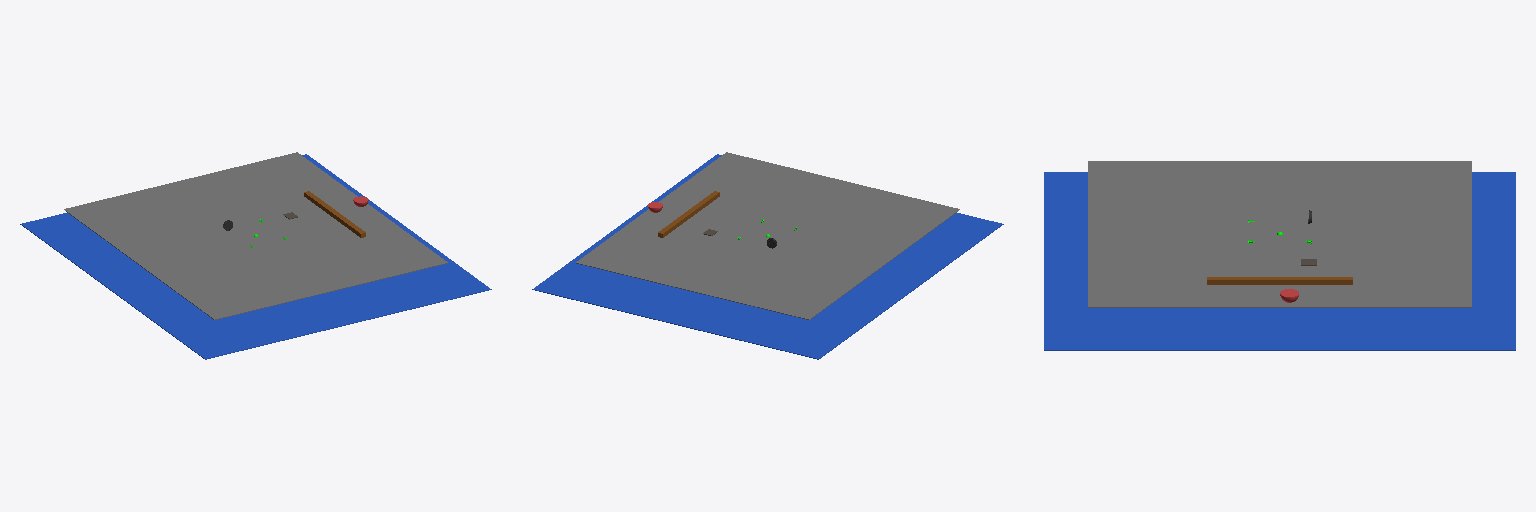
robot.urdf — sw9:
<?xml version="1.0" encoding="utf-8"?>
<!-- This URDF was automatically created by SolidWorks to URDF Exporter! Originally created by Stephen Brawner (brawner@gmail.com) 
     Commit Version: 1.6.0-4-g7f85cfe  Build Version: 1.6.7995.38578
     For more information, please see http://wiki.ros.org/sw_urdf_exporter -->
<robot name="sw9">

  <!-- =================================================================== -->
  <!-- ROOT LINK: ground_sphere (기준점 (0,0,0)) -->
  <!-- =================================================================== -->
  <link name="ground_sphere">
    <inertial>
      <origin xyz="0 0 0" rpy="0 0 0" />
      <mass value="0.1" />
      <inertia ixx="0.0001" ixy="0" ixz="0" iyy="0.0001" iyz="0" izz="0.0001" />
    </inertial>
    <visual>
      <origin xyz="0 0 0" rpy="0 0 0" />
      <geometry>
        <sphere radius="0.03" />
      </geometry>
      <material name="green_material">
        <color rgba="0.0 1.0 0.0 1.0" />
      </material>
    </visual>
    <collision>
      <origin xyz="0 0 0" rpy="0 0 0" />
      <geometry>
        <sphere radius="0.03" />
      </geometry>
    </collision>
  </link>

  <!-- =================================================================== -->
  <!-- LINK: ellipsoid_surface (ground_sphere 기준 위쪽으로 이동) -->
  <!-- =================================================================== -->
  <link name="ellipsoid_surface">
    <inertial>
      <origin xyz="0 0 0" rpy="0 0 0" />
      <mass value="30.0" />
      <inertia ixx="3.0" ixy="0" ixz="0" iyy="2.4" iyz="0" izz="5.0" />
    </inertial>
    <visual>
      <origin xyz="0 0 0" rpy="0 0 0" />
      <geometry>
        <box size="4.341 4.852 0.01" />
      </geometry>
      <material name="ellipsoid_mat">
        <color rgba="0.2 0.4 0.8 0.5" />
      </material>
    </visual>
    <collision>
      <origin xyz="0 0 0" rpy="0 0 0" />
      <geometry>
        <box size="4.341 4.852 0.01" />
      </geometry>
    </collision>
  </link>

  <joint name="sphere_to_ellipsoid_joint" type="fixed">
    <origin xyz="0 0 -0.30" rpy="0 0 0" />
    <parent link="ground_sphere" />
    <child link="ellipsoid_surface" />
  </joint>

  <!-- =================================================================== -->
  <!-- LINK: ground (바닥면, ground_sphere의 자식) -->
  <!-- =================================================================== -->
  <link name="ground">
    <inertial>
      <origin xyz="0 0 0" rpy="0 0 0" />
      <mass value="10.0" />
      <inertia ixx="0.818" ixy="0" ixz="0" iyy="0.654" iyz="0" izz="1.472" />
    </inertial>
    <visual>
      <origin xyz="0 0 0" rpy="0 0 0" />
      <geometry>
        <box size="3.544 3.964 0.01" />
      </geometry>
      <material name="ground_mat">
        <color rgba="0.5 0.5 0.5 0.8" />
      </material>
    </visual>
    <collision>
      <origin xyz="0 0 0" rpy="0 0 0" />
      <geometry>
        <box size="3.544 3.964 0.01" />
      </geometry>
    </collision>
  </link>

  <joint name="sphere_to_ground_joint" type="fixed">
    <origin xyz="0 0 0.0" rpy="0 0 0" />
    <parent link="ground_sphere" />
    <child link="ground" />
  </joint>

  <!-- =================================================================== -->
  <!-- ROBOT BASE LINK: ground의 자식으로 연결 -->
  <!-- =================================================================== -->
  <link name="car_frame">
    <inertial>
      <origin
        xyz="-0.0699924818342818 4.77680331115076E-09 0.266986488786554"
        rpy="0 0 0" />
      <mass
        value="4.36726752622486" />
      <inertia
        ixx="0.120130237589006"
        ixy="2.4797548909487E-06"
        ixz="-3.27227207151737E-05"
        iyy="0.191286662671253"
        iyz="2.68105952975221E-10"
        izz="0.301245720968891" />
    </inertial>
    <visual>
      <origin
        xyz="0 0 0"
        rpy="0 0 0" />
      <geometry>
        <mesh
          filename="../meshes/base_link.STL" />
      </geometry>
      <material
        name="">
        <color
          rgba="0.894117647058823 0.894117647058823 0.894117647058823 1" />
      </material>
    </visual>
    <collision>
      <origin
        xyz="0 0 0"
        rpy="0 0 0" />
      <geometry>
        <mesh
          filename="../meshes/base_link.STL" />
      </geometry>
    </collision>
  </link>

  <joint name="ground_to_car_frame_joint" type="fixed">
    <origin xyz="0 0 0.005" rpy="0 0 0" />
    <parent link="ground" />
    <child link="car_frame" />
  </joint>

  <!-- =================================================================== -->
  <!-- OBSTACLES (Attached to ground) -->
  <!-- =================================================================== -->
  <link name="obstacle_hemisphere">
    <inertial>
      <origin xyz="0 0 0" rpy="0 0 0" />
      <mass value="1.0" />
      <inertia ixx="0.001" ixy="0" ixz="0" iyy="0.001" iyz="0" izz="0.001" />
    </inertial>
    <visual>
      <origin xyz="0 0 0" rpy="0 0 0" />
      <geometry>
        <mesh filename="../meshes/hemisphere.STL" scale="0.1 0.1 0.1" />
      </geometry>
      <material name="hemisphere_mat">
        <color rgba="0.8 0.3 0.3 1.0" />
      </material>
    </visual>
    <collision>
      <origin xyz="0 0 0" rpy="0 0 0" />
      <geometry>
        <mesh filename="../meshes/hemisphere.STL" scale="0.1 0.1 0.1" />
      </geometry>
    </collision>
  </link>

  <joint name="ground_to_hemisphere_joint" type="fixed">
    <origin xyz="1.55 0.0 0.005" rpy="0 0 0" />
    <parent link="ground" />
    <child link="obstacle_hemisphere" />
  </joint>

  <link name="obstacle_wood_bar">
    <inertial>
      <origin xyz="0 0 0" rpy="0 0 0" />
      <mass value="2.0" />
      <inertia ixx="0.37" ixy="0" ixz="0" iyy="0.001" iyz="0" izz="0.37" />
    </inertial>
    <visual>
      <origin xyz="0 0 0" rpy="0 0 0" />
      <geometry>
        <box size="0.08 1.5 0.06" />
      </geometry>
      <material name="wood_mat">
        <color rgba="0.55 0.35 0.15 1.0" />
      </material>
    </visual>
    <collision>
      <origin xyz="0 0 0" rpy="0 0 0" />
      <geometry>
        <box size="0.08 1.5 0.06" />
      </geometry>
    </collision>
  </link>

  <joint name="ground_to_wood_bar_joint" type="fixed">
    <origin xyz="1.2 0.0 0.035" rpy="0 0 0" />
    <parent link="ground" />
    <child link="obstacle_wood_bar" />
  </joint>

  <link name="obstacle_rock_1">
    <inertial>
      <origin xyz="0 0 0" rpy="0 0 0" />
      <mass value="1.5" />
      <inertia ixx="0.005" ixy="0" ixz="0" iyy="0.005" iyz="0" izz="0.005" />
    </inertial>
    <visual>
      <origin xyz="0 0 0" rpy="0 0 0" />
      <geometry>
        <box size="0.14 0.16 0.01" />
      </geometry>
      <material name="rock_mat_1">
        <color rgba="0.38 0.35 0.32 1.0" />
      </material>
    </visual>
    <collision>
      <origin xyz="0 0 0" rpy="0 0 0" />
      <geometry>
        <box size="0.14 0.16 0.01" />
      </geometry>
    </collision>
  </link>

  <joint name="ground_to_rock_1_joint" type="fixed">
    <origin xyz="0.7 0.3 0.01" rpy="0 0 0" />
    <parent link="ground" />
    <child link="obstacle_rock_1" />
  </joint>

  <!-- =================================================================== -->
  <!-- ROBOT LINKS & JOINTS (swing, wheels, gears)                         -->
  <!-- =================================================================== -->
  <link name="swing_Link">
    <inertial>
      <origin
        xyz="2.89027833666061E-08 0.0605903676257628 0.0026644083414869"
        rpy="0 0 0" />
      <mass
        value="1.44344385530307" />
      <inertia
        ixx="0.00290322324922314"
        ixy="-5.36293964993607E-10"
        ixz="-2.47940935714683E-06"
        iyy="0.00598687173589354"
        iyz="3.6486436730923E-06"
        izz="0.00529337280538946" />
    </inertial>
    <visual>
      <origin
        xyz="0 0 0"
        rpy="0 0 0" />
      <geometry>
        <mesh
          filename="../meshes/swing_Link.STL" />
      </geometry>
      <material
        name="">
        <color
          rgba="0.894117647058823 0.894117647058823 0.894117647058823 1" />
      </material>
    </visual>
    <collision>
      <origin
        xyz="0 0 0"
        rpy="0 0 0" />
      <geometry>
        <mesh
          filename="../meshes/swing_Link.STL" />
      </geometry>
    </collision>
  </link>
  <joint
    name="swing_joint"
    type="revolute">
    <origin
      xyz="0.226 0 0.19572"
      rpy="-1.5708 0 -1.5708" />
    <parent
      link="car_frame" />
    <child
      link="swing_Link" />
    <axis
      xyz="0 0 0" />
    <limit
      lower="-0.2"
      upper="0.2"
      effort="0"
      velocity="0" />
  </joint>
  <link
    name="inner_gear_fr">
    <inertial>
      <origin
        xyz="5.68499051833982E-07 7.63716316805191E-05 -0.0149805703213809"
        rpy="0 0 0" />
      <mass
        value="0.0110327332596441" />
      <inertia
        ixx="4.80829060566523E-06"
        ixy="-3.01977896117971E-11"
        ixz="1.64764447799956E-10"
        iyy="4.80952617762222E-06"
        iyz="-3.00538459560633E-08"
        izz="7.042467854528E-07" />
    </inertial>
    <visual>
      <origin
        xyz="0 0 0"
        rpy="0 0 0" />
      <geometry>
        <mesh
          filename="../meshes/inner_gear_fr.STL" />
      </geometry>
      <material
        name="">
        <color
          rgba="0 1 0 1" />
      </material>
    </visual>
    <collision>
      <origin
        xyz="0 0 0"
        rpy="0 0 0" />
      <geometry>
        <mesh
          filename="../meshes/inner_gear_fr.STL" />
      </geometry>
    </collision>
  </link>
  <joint
    name="inner_gear_fr_joint"
    type="continuous">
    <origin
      xyz="0.32225 0.1648 0.03"
      rpy="1.5708 -1.5108 1.5708" />
    <parent
      link="swing_Link" />
    <child
      link="inner_gear_fr" />
    <axis
      xyz="0 0 -1" />
  </joint>
  <link
    name="inner_wheel_fr">
    <inertial>
      <origin
        xyz="-0.00591780966759611 0.0438179473141048 -0.00804808345658226"
        rpy="0 0 0" />
      <mass
        value="0.293106126667204" />
      <inertia
        ixx="0.000390237025481359"
        ixy="-2.69135782346957E-06"
        ixz="-4.80323169388206E-07"
        iyy="0.000409507011836489"
        iyz="3.50734556715664E-06"
        izz="0.000759562007202022" />
    </inertial>
    <visual>
      <origin
        xyz="0 0 0"
        rpy="0 0 0" />
      <geometry>
        <mesh
          filename="../meshes/inner_wheel_fr.STL" />
      </geometry>
      <material
        name="">
        <color
          rgba="0.894117647058823 0.894117647058823 0.894117647058823 1" />
      </material>
    </visual>
    <collision>
      <origin
        xyz="0 0 0"
        rpy="0 0 0" />
      <geometry>
        <mesh
          filename="../meshes/inner_wheel_fr.STL" />
      </geometry>
    </collision>
  </link>
  <joint
    name="inner_wheel_fr_joint"
    type="continuous">
    <origin
      xyz="0.32225 0.1648 0.03"
      rpy="1.5708 -1.5108 1.5708" />
    <parent
      link="swing_Link" />
    <child
      link="inner_wheel_fr" />
    <axis
      xyz="0 0 -1" />
  </joint>
  <link
    name="wheel_fr">
    <inertial>
      <origin
        xyz="7.76422831502699E-05 0.00868726029411421 0.000105905033173787"
        rpy="0 0 0" />
      <mass
        value="0.165142633558274" />
      <inertia
        ixx="0.000463075796975926"
        ixy="-5.44937415188686E-09"
        ixz="7.50961713471179E-07"
        iyy="0.000907319831290129"
        iyz="-7.43304666822627E-09"
        izz="0.000463549564232601" />
    </inertial>
    <visual>
      <origin
        xyz="0 0 0"
        rpy="0 0 0" />
      <geometry>
        <mesh
          filename="../meshes/wheel_fr.STL" />
      </geometry>
      <material
        name="">
        <color
          rgba="0.796078431372549 0.623529411764706 1 1" />
      </material>
    </visual>
    <collision>
      <origin
        xyz="0 0 0"
        rpy="0 0 0" />
      <geometry>
        <mesh
          filename="../meshes/wheel_fr.STL" />
      </geometry>
    </collision>
  </link>
  <joint
    name="wheel_fr_joint"
    type="continuous">
    <origin
      xyz="-0.0064373 0.047566 0.003"
      rpy="-1.5708 0 -2.4469" />
    <parent
      link="inner_wheel_fr" />
    <child
      link="wheel_fr" />
    <axis
      xyz="0 1 0" />
  </joint>
  <link
    name="inner_gear_fl">
    <inertial>
      <origin
        xyz="5.68499051945004E-07 7.63716316805052E-05 -0.0149805703213809"
        rpy="0 0 0" />
      <mass
        value="0.011032733259644" />
      <inertia
        ixx="4.80829060566521E-06"
        ixy="-3.01977896113736E-11"
        ixz="1.64764447799246E-10"
        iyy="4.8095261776222E-06"
        iyz="-3.00538459560613E-08"
        izz="7.04246785452791E-07" />
    </inertial>
    <visual>
      <origin
        xyz="0 0 0"
        rpy="0 0 0" />
      <geometry>
        <mesh
          filename="../meshes/inner_gear_fl.STL" />
      </geometry>
      <material
        name="">
        <color
          rgba="0 1 0 1" />
      </material>
    </visual>
    <collision>
      <origin
        xyz="0 0 0"
        rpy="0 0 0" />
      <geometry>
        <mesh
          filename="../meshes/inner_gear_fl.STL" />
      </geometry>
    </collision>
  </link>
  <joint
    name="inner_gear_fl_joint"
    type="continuous">
    <origin
      xyz="-0.32225 0.1648 0.03"
      rpy="-1.5708 1.5108 1.5708" />
    <parent
      link="swing_Link" />
    <child
      link="inner_gear_fl" />
    <axis
      xyz="0 0 1" />
  </joint>
  <link
    name="inner_wheel_fl">
    <inertial>
      <origin
        xyz="-0.00591780966759603 0.0438179473141047 -0.00804808345658231"
        rpy="0 0 0" />
      <mass
        value="0.293106126667203" />
      <inertia
        ixx="0.000390237025481358"
        ixy="-2.69135782346955E-06"
        ixz="-4.80323169388321E-07"
        iyy="0.000409507011836488"
        iyz="3.50734556715672E-06"
        izz="0.00075956200720202" />
    </inertial>
    <visual>
      <origin
        xyz="0 0 0"
        rpy="0 0 0" />
      <geometry>
        <mesh
          filename="../meshes/inner_wheel_fl.STL" />
      </geometry>
      <material
        name="">
        <color
          rgba="0.894117647058823 0.894117647058823 0.894117647058823 1" />
      </material>
    </visual>
    <collision>
      <origin
        xyz="0 0 0"
        rpy="0 0 0" />
      <geometry>
        <mesh
          filename="../meshes/inner_wheel_fl.STL" />
      </geometry>
    </collision>
  </link>
  <joint
    name="inner_wheel_fl_joint"
    type="continuous">
    <origin
      xyz="-0.32225 0.1648 0.03"
      rpy="-1.5708 1.5108 1.5708" />
    <parent
      link="swing_Link" />
    <child
      link="inner_wheel_fl" />
    <axis
      xyz="0 0 1" />
  </joint>
  <link
    name="wheel_fl">
    <inertial>
      <origin
        xyz="7.76422831511026E-05 0.00868726029411432 0.000105905033174286"
        rpy="0 0 0" />
      <mass
        value="0.165142633558273" />
      <inertia
        ixx="0.000463075796975928"
        ixy="-5.44937415161994E-09"
        ixz="7.50961713469987E-07"
        iyy="0.000907319831290127"
        iyz="-7.43304666820224E-09"
        izz="0.000463549564232599" />
    </inertial>
    <visual>
      <origin
        xyz="0 0 0"
        rpy="0 0 0" />
      <geometry>
        <mesh
          filename="../meshes/wheel_fl.STL" />
      </geometry>
      <material
        name="">
        <color
          rgba="0.796078431372549 0.623529411764706 1 1" />
      </material>
    </visual>
    <collision>
      <origin
        xyz="0 0 0"
        rpy="0 0 0" />
      <geometry>
        <mesh
          filename="../meshes/wheel_fl.STL" />
      </geometry>
    </collision>
  </link>
  <joint
    name="wheel_fl_joint"
    type="continuous">
    <origin
      xyz="-0.0064373 0.047566 0.003"
      rpy="-1.5708 0 -2.4469" />
    <parent
      link="inner_wheel_fl" />
    <child
      link="wheel_fl" />
    <axis
      xyz="0 -1 0" />
  </joint>
  <link
    name="inner_gear_rr">
    <inertial>
      <origin
        xyz="5.68499051806226E-07 7.63716316805191E-05 -0.0149805703213809"
        rpy="0 0 0" />
      <mass
        value="0.011032733259644" />
      <inertia
        ixx="4.80829060566522E-06"
        ixy="-3.01977896123265E-11"
        ixz="1.64764447786558E-10"
        iyy="4.80952617762221E-06"
        iyz="-3.00538459560662E-08"
        izz="7.04246785452796E-07" />
    </inertial>
    <visual>
      <origin
        xyz="0 0 0"
        rpy="0 0 0" />
      <geometry>
        <mesh
          filename="../meshes/inner_gear_rr.STL" />
      </geometry>
      <material
        name="">
        <color
          rgba="0 1 0 1" />
      </material>
    </visual>
    <collision>
      <origin
        xyz="0 0 0"
        rpy="0 0 0" />
      <geometry>
        <mesh
          filename="../meshes/inner_gear_rr.STL" />
      </geometry>
    </collision>
  </link>
  <joint
    name="inner_gear_rr_joint"
    type="continuous">
    <origin
      xyz="-0.244 -0.32225 0.030922"
      rpy="1.5708 0.059958 0" />
    <parent
      link="car_frame" />
    <child
      link="inner_gear_rr" />
    <axis
      xyz="0 0 -1" />
  </joint>
  <link
    name="inner_wheel_rr">
    <inertial>
      <origin
        xyz="-0.00591780966759606 0.0438179473141048 -0.0080480834565822"
        rpy="0 0 0" />
      <mass
        value="0.293106126667204" />
      <inertia
        ixx="0.000390237025481359"
        ixy="-2.69135782346949E-06"
        ixz="-4.80323169387075E-07"
        iyy="0.000409507011836489"
        iyz="3.50734556715678E-06"
        izz="0.000759562007202022" />
    </inertial>
    <visual>
      <origin
        xyz="0 0 0"
        rpy="0 0 0" />
      <geometry>
        <mesh
          filename="../meshes/inner_wheel_rr.STL" />
      </geometry>
      <material
        name="">
        <color
          rgba="0.894117647058823 0.894117647058823 0.894117647058823 1" />
      </material>
    </visual>
    <collision>
      <origin
        xyz="0 0 0"
        rpy="0 0 0" />
      <geometry>
        <mesh
          filename="../meshes/inner_wheel_rr.STL" />
      </geometry>
    </collision>
  </link>
  <joint
    name="inner_wheel_rr_joint"
    type="continuous">
    <origin
      xyz="-0.244 -0.32225 0.030922"
      rpy="1.5708 0.059958 0" />
    <parent
      link="car_frame" />
    <child
      link="inner_wheel_rr" />
    <axis
      xyz="0 0 -1" />
  </joint>
  <link
    name="wheel_rr">
    <inertial>
      <origin
        xyz="7.76422831505474E-05 0.00868726029411426 0.000105905033173592"
        rpy="0 0 0" />
      <mass
        value="0.165142633558276" />
      <inertia
        ixx="0.00046307579697593"
        ixy="-5.44937415025455E-09"
        ixz="7.50961713472467E-07"
        iyy="0.000907319831290135"
        iyz="-7.43304666863459E-09"
        izz="0.000463549564232603" />
    </inertial>
    <visual>
      <origin
        xyz="0 0 0"
        rpy="0 0 0" />
      <geometry>
        <mesh
          filename="../meshes/wheel_rr.STL" />
      </geometry>
      <material
        name="">
        <color
          rgba="0.796078431372549 0.623529411764706 1 1" />
      </material>
    </visual>
    <collision>
      <origin
        xyz="0 0 0"
        rpy="0 0 0" />
      <geometry>
        <mesh
          filename="../meshes/wheel_rr.STL" />
      </geometry>
    </collision>
  </link>
  <joint
    name="wheel_rr_joint"
    type="continuous">
    <origin
      xyz="-0.0064373 0.047566 0.003"
      rpy="-1.5708 0 -2.4469" />
    <parent
      link="inner_wheel_rr" />
    <child
      link="wheel_rr" />
    <axis
      xyz="0 1 0" />
  </joint>
  <link
    name="inner_gear_rl">
    <inertial>
      <origin
        xyz="5.68499051833982E-07 7.63716316805191E-05 -0.0149805703213809"
        rpy="0 0 0" />
      <mass
        value="0.011032733259644" />
      <inertia
        ixx="4.80829060566523E-06"
        ixy="-3.01977896103678E-11"
        ixz="1.64764447784333E-10"
        iyy="4.80952617762222E-06"
        iyz="-3.00538459560657E-08"
        izz="7.04246785452796E-07" />
    </inertial>
    <visual>
      <origin
        xyz="0 0 0"
        rpy="0 0 0" />
      <geometry>
        <mesh
          filename="../meshes/inner_gear_rl.STL" />
      </geometry>
      <material
        name="">
        <color
          rgba="0 1 0 1" />
      </material>
    </visual>
    <collision>
      <origin
        xyz="0 0 0"
        rpy="0 0 0" />
      <geometry>
        <mesh
          filename="../meshes/inner_gear_rl.STL" />
      </geometry>
    </collision>
  </link>
  <joint
    name="inner_gear_rl_joint"
    type="continuous">
    <origin
      xyz="-0.244 0.32225 0.030922"
      rpy="1.5708 0.059958 -3.1416" />
    <parent
      link="car_frame" />
    <child
      link="inner_gear_rl" />
    <axis
      xyz="0 0 1" />
  </joint>
  <link
    name="inner_wheel_rl">
    <inertial>
      <origin
        xyz="-0.00591780966759609 0.0438179473141047 -0.0080480834565822"
        rpy="0 0 0" />
      <mass
        value="0.293106126667203" />
      <inertia
        ixx="0.000390237025481358"
        ixy="-2.69135782346947E-06"
        ixz="-4.80323169387016E-07"
        iyy="0.000409507011836488"
        iyz="3.50734556715677E-06"
        izz="0.00075956200720202" />
    </inertial>
    <visual>
      <origin
        xyz="0 0 0"
        rpy="0 0 0" />
      <geometry>
        <mesh
          filename="../meshes/inner_wheel_rl.STL" />
      </geometry>
      <material
        name="">
        <color
          rgba="0.250980392156863 0.250980392156863 0.250980392156863 1" />
      </material>
    </visual>
    <collision>
      <origin
        xyz="0 0 0"
        rpy="0 0 0" />
      <geometry>
        <mesh
          filename="../meshes/inner_wheel_rl.STL" />
      </geometry>
    </collision>
  </link>
  <joint
    name="inner_wheel_rl_joint"
    type="continuous">
    <origin
      xyz="-0.244 0.32225 0.030922"
      rpy="1.5708 0.059958 -3.1416" />
    <parent
      link="car_frame" />
    <child
      link="inner_wheel_rl" />
    <axis
      xyz="0 0 1" />
  </joint>
  <link
    name="wheel_rl">
    <inertial>
      <origin
        xyz="7.76422831503532E-05 0.00868726029411437 0.000105905033174064"
        rpy="0 0 0" />
      <mass
        value="0.165142633558276" />
      <inertia
        ixx="0.000463075796975933"
        ixy="-5.44937414973514E-09"
        ixz="7.50961713469634E-07"
        iyy="0.000907319831290136"
        iyz="-7.43304666839593E-09"
        izz="0.000463549564232602" />
    </inertial>
    <visual>
      <origin
        xyz="0 0 0"
        rpy="0 0 0" />
      <geometry>
        <mesh
          filename="../meshes/wheel_rl.STL" />
      </geometry>
      <material
        name="">
        <color
          rgba="0.796078431372549 0.623529411764706 1 1" />
      </material>
    </visual>
    <collision>
      <origin
        xyz="0 0 0"
        rpy="0 0 0" />
      <geometry>
        <mesh
          filename="../meshes/wheel_rl.STL" />
      </geometry>
    </collision>
  </link>
  <joint
    name="wheel_rl_joint"
    type="continuous">
    <origin
      xyz="-0.0064373 0.047566 0.003"
      rpy="-1.5708 0 -2.4469" />
    <parent
      link="inner_wheel_rl" />
    <child
      link="wheel_rl" />
    <axis
      xyz="0 -1 0" />
  </joint>
</robot>

--- Facts derived from the render (not from the file) ---
3 views of the same robot in one strip: view 1: azimuth 30°, elevation 25°; view 2: azimuth 150°, elevation 25°; view 3: azimuth 270°, elevation 25° (orthographic).
Model sw9 with 20 links and 19 joints (1 revolute, 12 continuous, 6 fixed), rooted at ground_sphere, posed all joints at 0.
Links seen in each view (by area): view 1: ground, ellipsoid_surface, obstacle_wood_bar; view 2: ground, ellipsoid_surface, obstacle_wood_bar; view 3: ground, ellipsoid_surface, obstacle_wood_bar.
Link boxes in pixels (box(x1,y1,x2,y2)): ground: box(64, 152, 447, 319); ellipsoid_surface: box(20, 154, 491, 359); obstacle_wood_bar: box(304, 191, 365, 237); ground: box(576, 152, 959, 319); ellipsoid_surface: box(532, 154, 1003, 359); obstacle_wood_bar: box(658, 191, 719, 237); ground: box(1088, 161, 1471, 307); ellipsoid_surface: box(1044, 172, 1515, 350); obstacle_wood_bar: box(1207, 277, 1352, 284).
Bounding box of the posed robot: 4.34 × 4.85 × 0.4601 m (x, y, z).
Meshes: 15 distinct files referenced, 5 mesh visuals loaded (5 binary STL); not drawn: 10 (reference not matched to a file when rendering).
